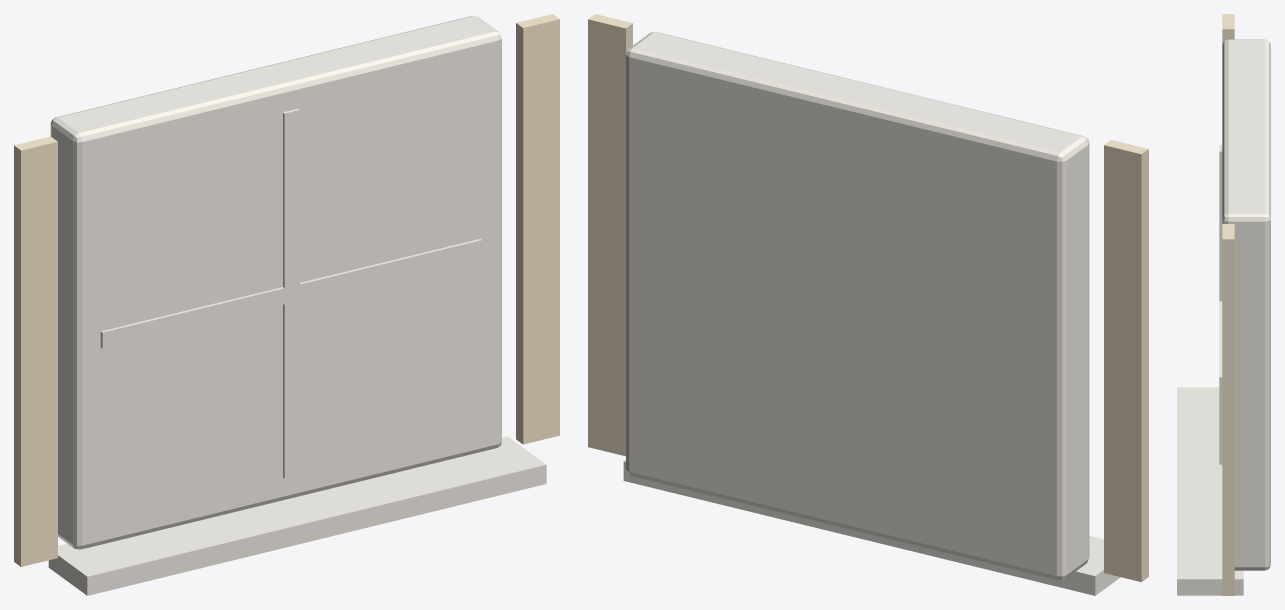
File: janela.glb
3 renders of one model, left to right at view 1: azimuth 30°, elevation 25°; view 2: azimuth 150°, elevation 25°; view 3: azimuth 270°, elevation 25°, orthographic. The views are drawn at different scales.
Parts seen in each view (by area): view 1: janela; view 2: janela; view 3: janela.
Boxes of the visible parts, left/top/right/bottom form: janela: left=14, top=14, right=559, bottom=595; janela: left=588, top=14, right=1148, bottom=595; janela: left=1177, top=14, right=1270, bottom=595.
Bounding box in the file's own units: 1.76 × 1.36 × 0.31.
